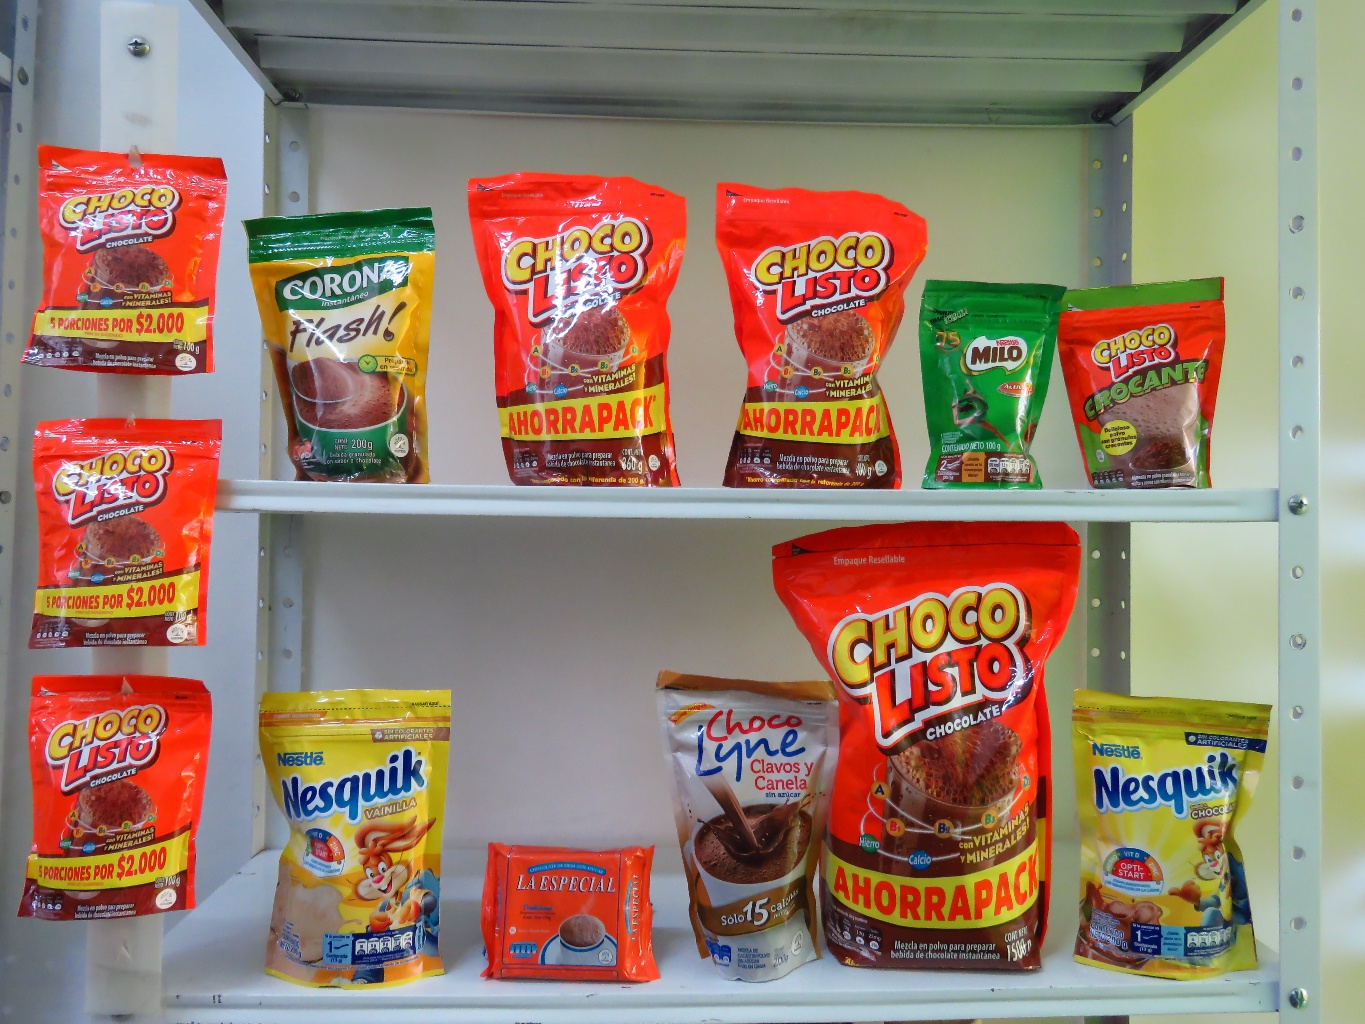COL0170102DYP10000: (1060, 278, 1229, 488)
COL0170103DYP1,500: (778, 518, 1086, 972)
COL0170103DYP10000: (8, 669, 208, 920)
COL0170103DYP36000: (465, 167, 689, 486)
COL0170103DYP40000: (712, 171, 912, 489)
COL0170203DYP10000: (922, 269, 1060, 490)
COL0170303DYP20000: (1066, 685, 1272, 983)
COL0170306DYP20000: (248, 678, 456, 979)
